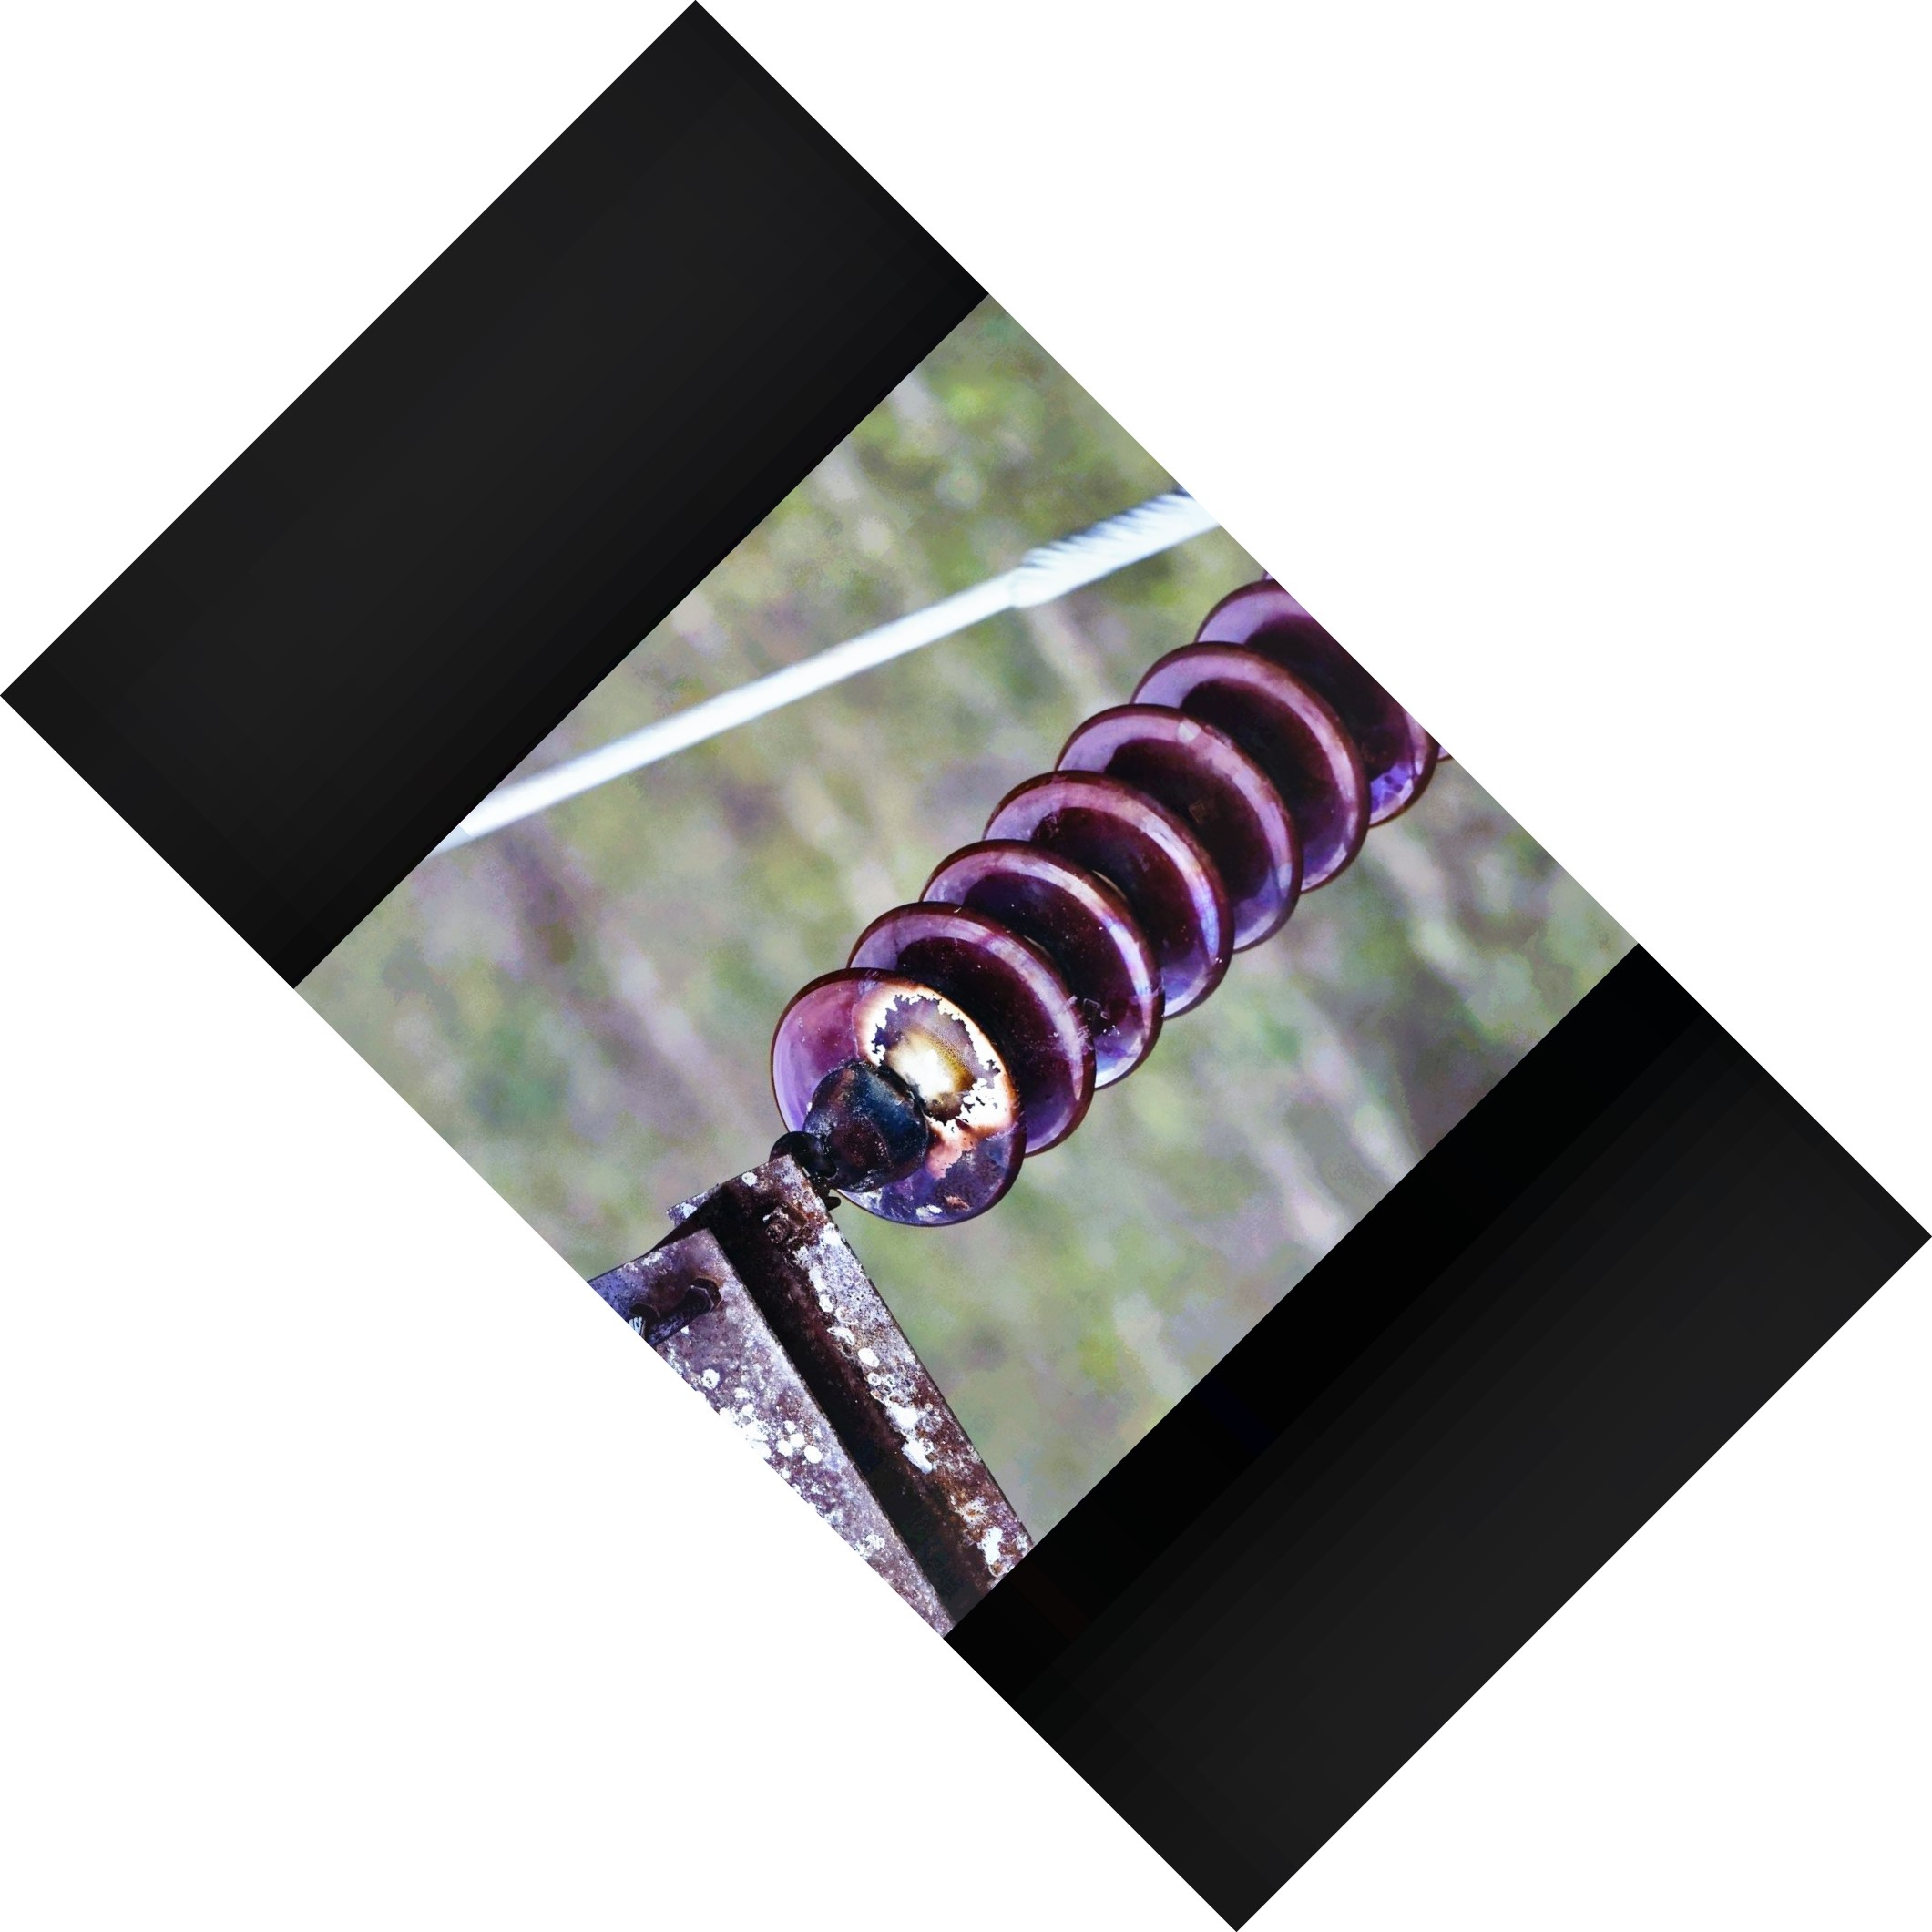Insulator flashover: (761, 959, 1031, 1231)
